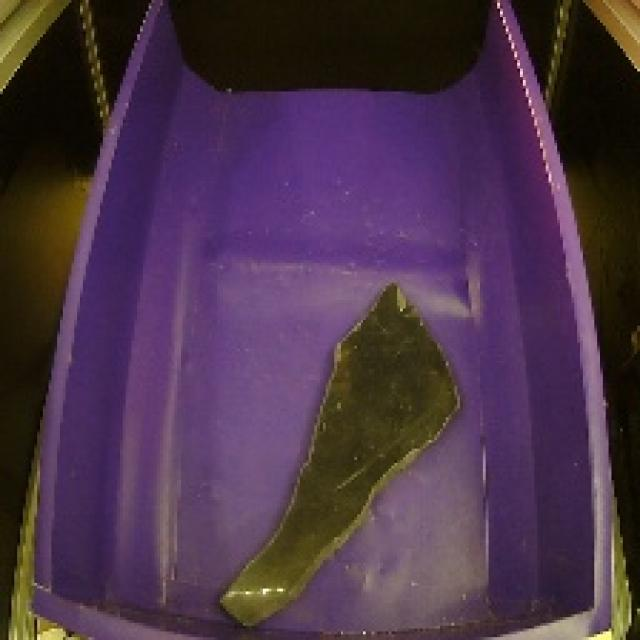china: (206, 275, 472, 636)
